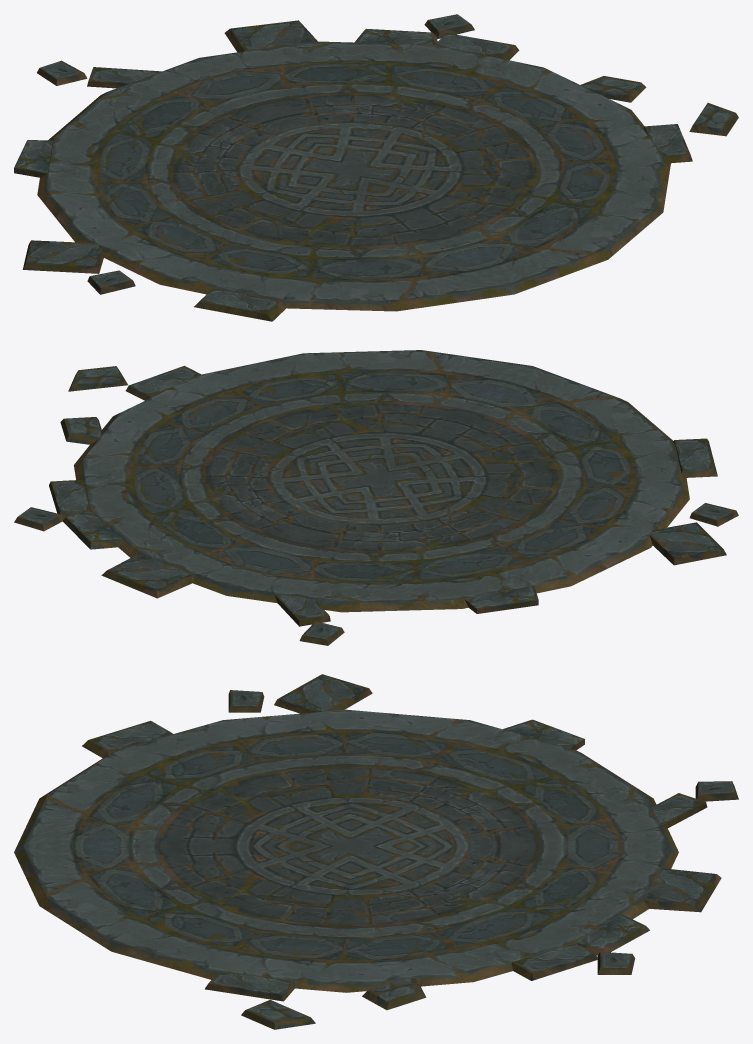
The model's file is common_yewai_jingjiyuanpan.FBX.
The picture shows the model from 3 angles, top to bottom: view 1: azimuth 30°, elevation 25°; view 2: azimuth 150°, elevation 25°; view 3: azimuth 270°, elevation 25°; orthographic projection. The views are drawn at different scales.
Visible parts, largest first — view 1: common_yewai_jingjiyuanpan; view 2: common_yewai_jingjiyuanpan; view 3: common_yewai_jingjiyuanpan.
Boxes of the visible parts, x1,y1,x2,y2 form: common_yewai_jingjiyuanpan: (14, 14, 738, 321); common_yewai_jingjiyuanpan: (14, 350, 738, 645); common_yewai_jingjiyuanpan: (14, 674, 738, 1029).
Size of the model in its own units: 16.17 by 14.09 by 0.13.
